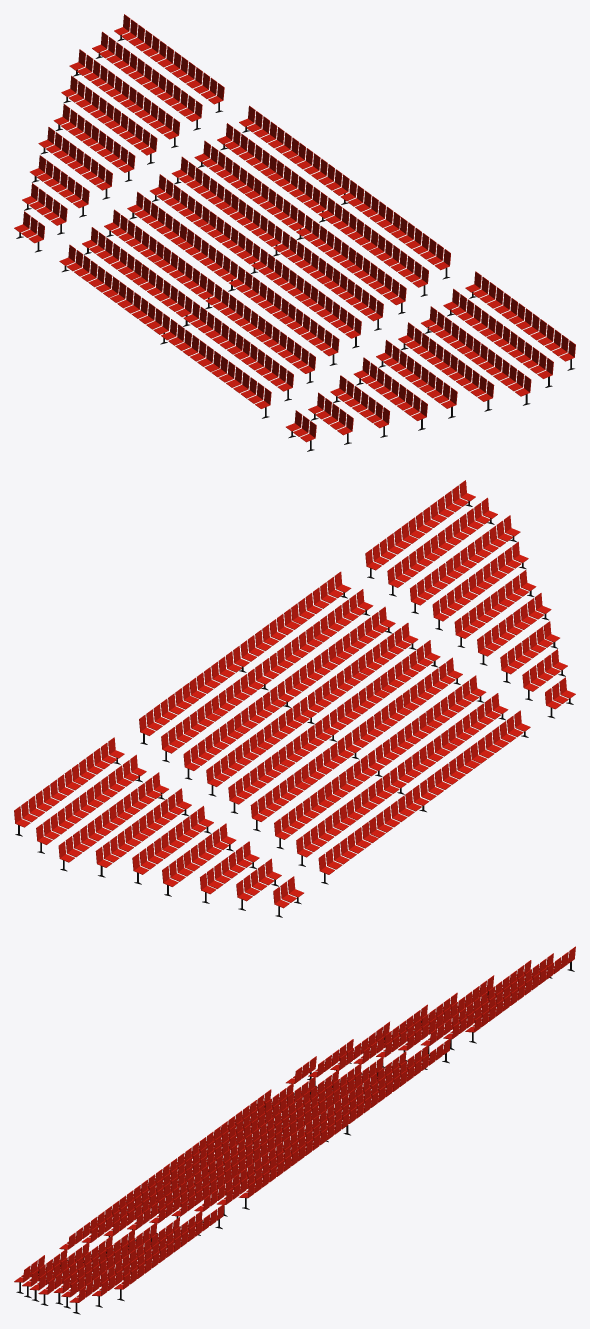
File: Stand_E_Chairs.FBX
3 renders of one model, top to bottom at view 1: azimuth 30°, elevation 25°; view 2: azimuth 150°, elevation 25°; view 3: azimuth 330°, elevation 25°, orthographic.
Parts seen in each view (by area): view 1: Stand_E_Chair_11, Stand_E_Chair_15, Stand_E_Chair_19, Stand_E_Chair_12, Stand_E_Chair_13, Stand_E_Chair_17, Stand_E_Chair_09, Stand_E_Chair_16, Stand_E_Chair_08, Stand_E_Chair_03, Stand_E_Chair_10, Stand_E_Chair_18 (+12 smaller); view 2: Stand_E_Chair_13, Stand_E_Chair_08, Stand_E_Chair_16, Stand_E_Chair_17, Stand_E_Chair_19, Stand_E_Chair_09, Stand_E_Chair_15, Stand_E_Chair_11, Stand_E_Chair_12, Stand_E_Chair_21, Stand_E_Chair_14, Stand_E_Chair_18 (+12 smaller); view 3: Stand_E_Chair_11, Stand_E_Chair_15, Stand_E_Chair_19, Stand_E_Chair_21, Stand_E_Chair_09, Stand_E_Chair_04, Stand_E_Chair_08, Stand_E_Chair_03, Stand_E_Chair_10, Stand_E_Chair_12, Stand_E_Chair_06, Stand_E_Chair_13 (+11 smaller).
Boxes of the visible parts, left/top/right/bottom form: Stand_E_Chair_11: left=346, top=217, right=450, bottom=314; Stand_E_Chair_15: left=279, top=268, right=383, bottom=365; Stand_E_Chair_19: left=211, top=321, right=315, bottom=418; Stand_E_Chair_12: left=177, top=193, right=282, bottom=291; Stand_E_Chair_13: left=127, top=156, right=231, bottom=244; Stand_E_Chair_17: left=110, top=246, right=214, bottom=344; Stand_E_Chair_09: left=245, top=142, right=349, bottom=239; Stand_E_Chair_16: left=59, top=209, right=163, bottom=297; Stand_E_Chair_08: left=194, top=105, right=298, bottom=193; Stand_E_Chair_03: left=76, top=19, right=181, bottom=107; Stand_E_Chair_10: left=296, top=180, right=400, bottom=268; Stand_E_Chair_18: left=161, top=284, right=265, bottom=372; Stand_E_Chair_13: left=206, top=734, right=310, bottom=831; Stand_E_Chair_08: left=139, top=683, right=243, bottom=779; Stand_E_Chair_16: left=274, top=786, right=378, bottom=884; Stand_E_Chair_17: left=324, top=749, right=429, bottom=837; Stand_E_Chair_19: left=426, top=675, right=530, bottom=763; Stand_E_Chair_09: left=189, top=646, right=293, bottom=733; Stand_E_Chair_15: left=358, top=623, right=462, bottom=710; Stand_E_Chair_11: left=291, top=571, right=395, bottom=659; Stand_E_Chair_12: left=256, top=697, right=361, bottom=785; Stand_E_Chair_21: left=408, top=485, right=513, bottom=573; Stand_E_Chair_14: left=308, top=659, right=412, bottom=747; Stand_E_Chair_18: left=375, top=712, right=480, bottom=800; Stand_E_Chair_11: left=194, top=1149, right=298, bottom=1222; Stand_E_Chair_15: left=127, top=1167, right=231, bottom=1241; Stand_E_Chair_19: left=59, top=1187, right=163, bottom=1260; Stand_E_Chair_21: left=76, top=1235, right=181, bottom=1297; Stand_E_Chair_09: left=297, top=1075, right=400, bottom=1142; Stand_E_Chair_04: left=421, top=989, right=517, bottom=1056; Stand_E_Chair_08: left=348, top=1038, right=450, bottom=1099; Stand_E_Chair_03: left=466, top=952, right=568, bottom=1013; Stand_E_Chair_10: left=246, top=1112, right=349, bottom=1173; Stand_E_Chair_12: left=230, top=1093, right=333, bottom=1154; Stand_E_Chair_06: left=353, top=1007, right=450, bottom=1074; Stand_E_Chair_13: left=281, top=1056, right=383, bottom=1117.
Bounding box in the file's own units: 8277 × 4990 × 34044.
